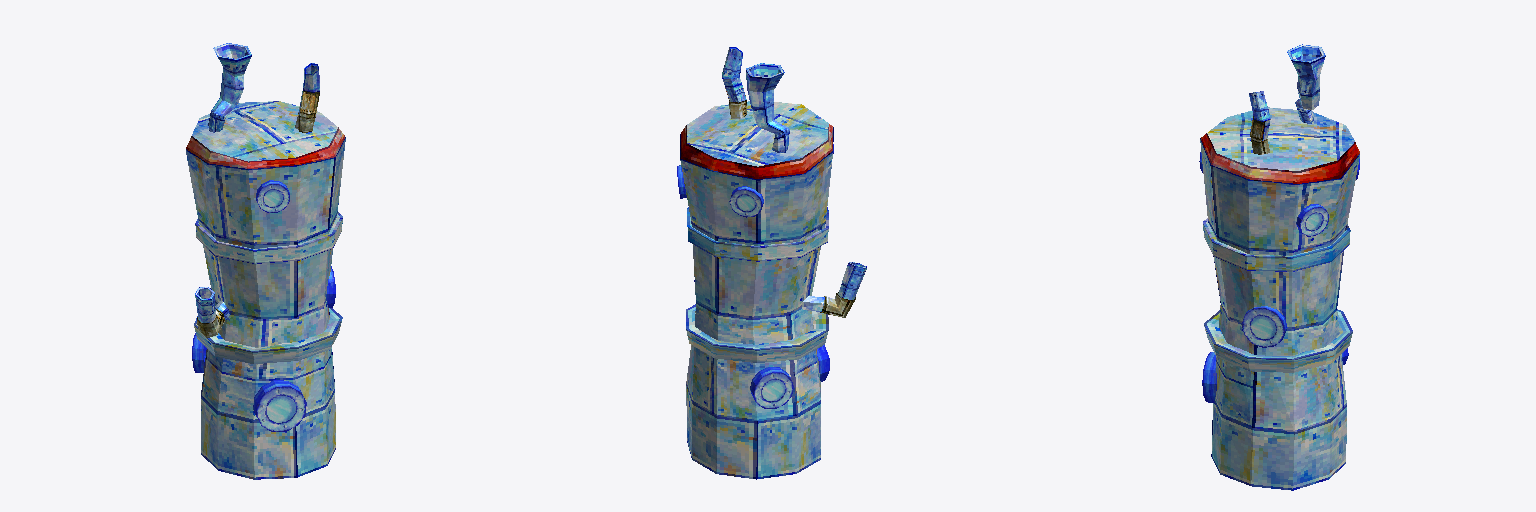
3 views of the same model, side by side, from view 1: azimuth 30°, elevation 25°; view 2: azimuth 150°, elevation 25°; view 3: azimuth 270°, elevation 25° (orthographic).
Parts seen in each view (by area): view 1: build, vent, window; view 2: build, vent, window; view 3: build, window, vent.
Part boxes in pixels (left/top/right/bottom): build: left=186, top=101, right=345, bottom=479; vent: left=195, top=43, right=319, bottom=337; window: left=192, top=180, right=335, bottom=431; build: left=680, top=101, right=833, bottom=479; vent: left=722, top=47, right=866, bottom=317; window: left=677, top=144, right=833, bottom=408; build: left=1200, top=107, right=1359, bottom=490; window: left=1199, top=152, right=1359, bottom=402; vent: left=1249, top=44, right=1325, bottom=154.
Bounding box in the file's own units: 1.73 × 4.16 × 1.53.
3 materials, 3 textured.